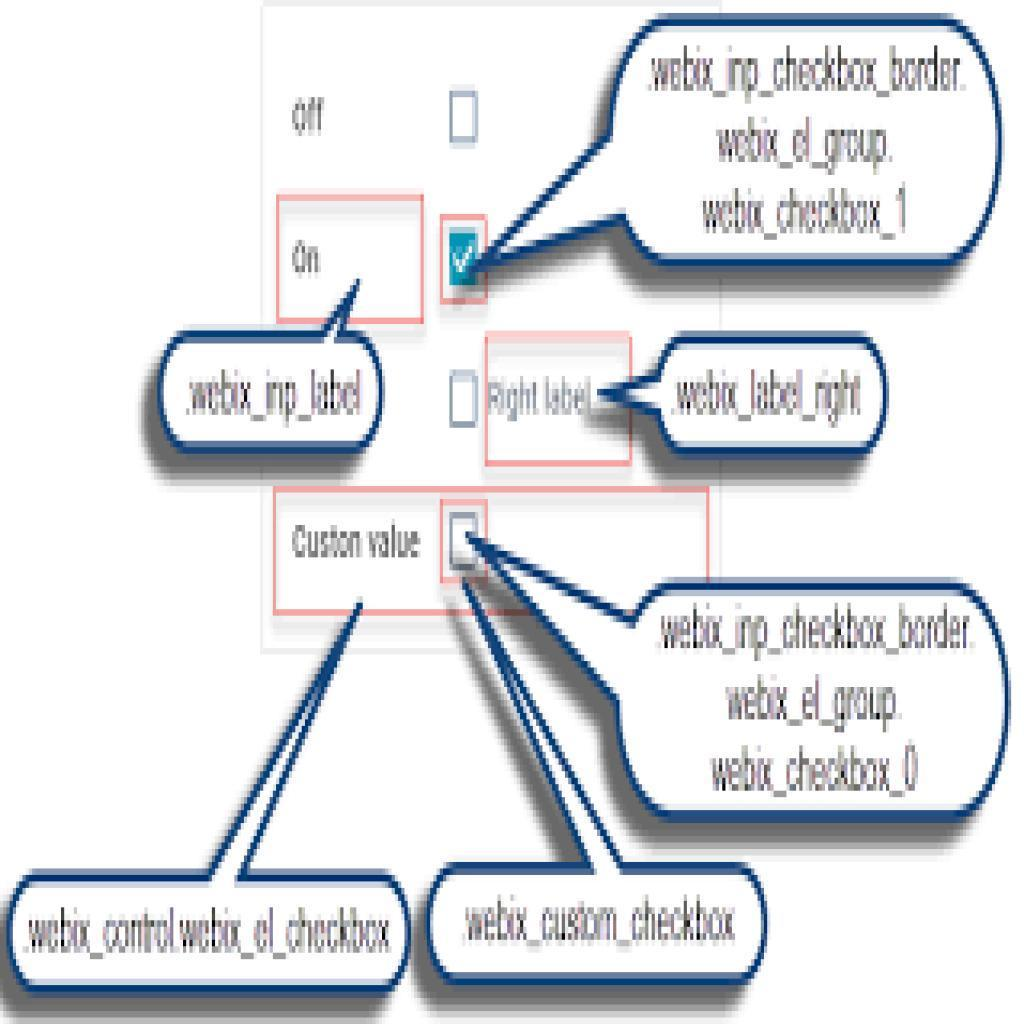checkbox: (448, 373, 482, 428), (450, 93, 481, 146)
